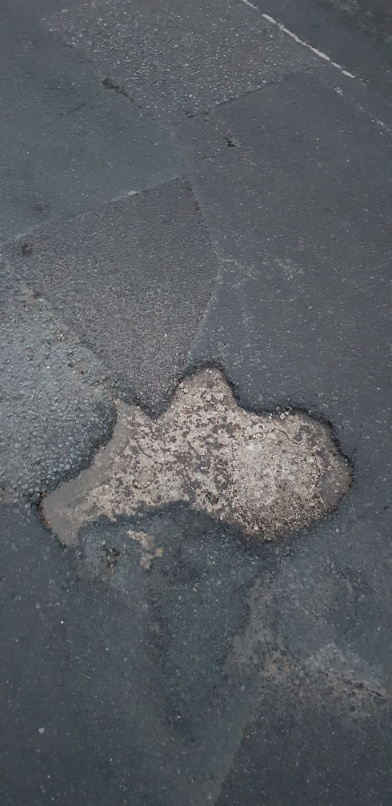pothole: (28, 360, 355, 554)
